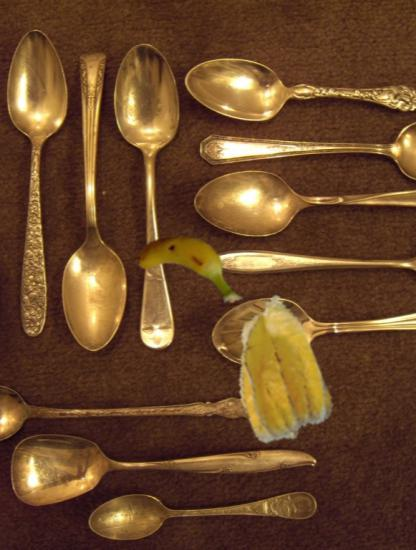Banana: (136, 215, 245, 324)
Physalis: (203, 299, 347, 443)
